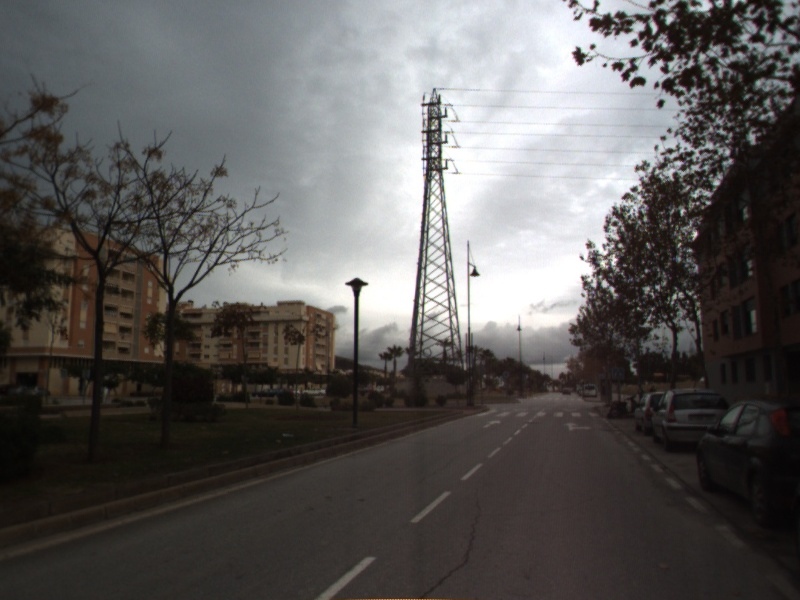STRAIGHT: (480, 418, 504, 430)
STRAIGHT_RIGHT: (561, 420, 595, 433)
